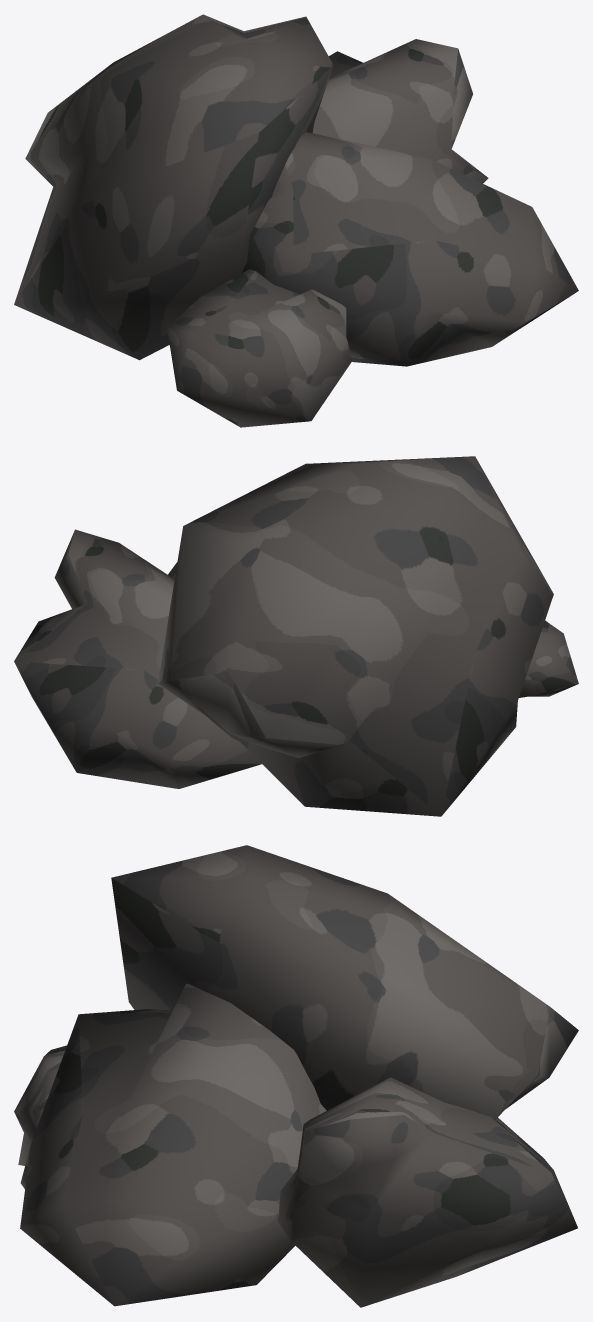
File: Vol Rock 6 X 6 13_preview_3DS_simplified.glb
3 views of the same model, one above another, from view 1: azimuth 30°, elevation 25°; view 2: azimuth 150°, elevation 25°; view 3: azimuth 270°, elevation 25° (orthographic). The views are drawn at different scales.
Visible parts, largest first — view 1: Marine Park Empire model; view 2: Marine Park Empire model; view 3: Marine Park Empire model.
Part boxes in pixels (left/top/right/bottom): Marine Park Empire model: left=14, top=14, right=578, bottom=427; Marine Park Empire model: left=14, top=456, right=578, bottom=816; Marine Park Empire model: left=14, top=845, right=578, bottom=1307.
Size of the model in its own units: 193 by 128 by 204.
1 material, 1 textured.
